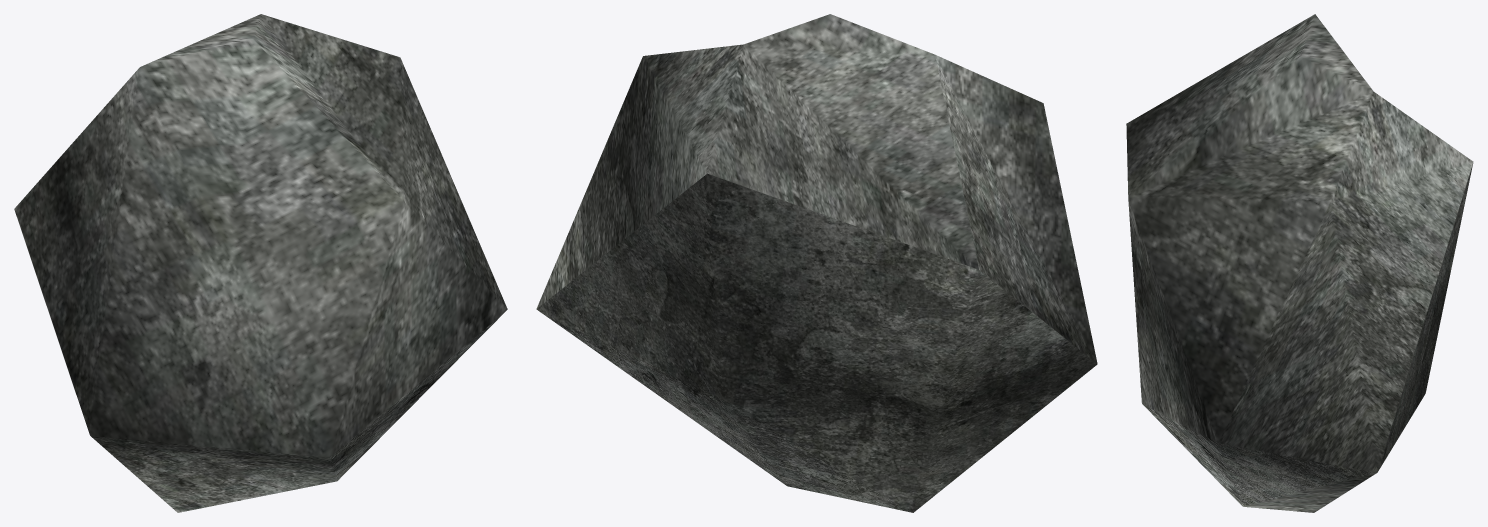
The model's file is prop_rubble_rock_01.glb.
3 renders of one model, left to right at view 1: azimuth 30°, elevation 25°; view 2: azimuth 150°, elevation 25°; view 3: azimuth 270°, elevation 25°, orthographic. The views are drawn at different scales.
Bounding box in the file's own units: 28.26 × 27.45 × 19.48.
1 material, 1 textured.
